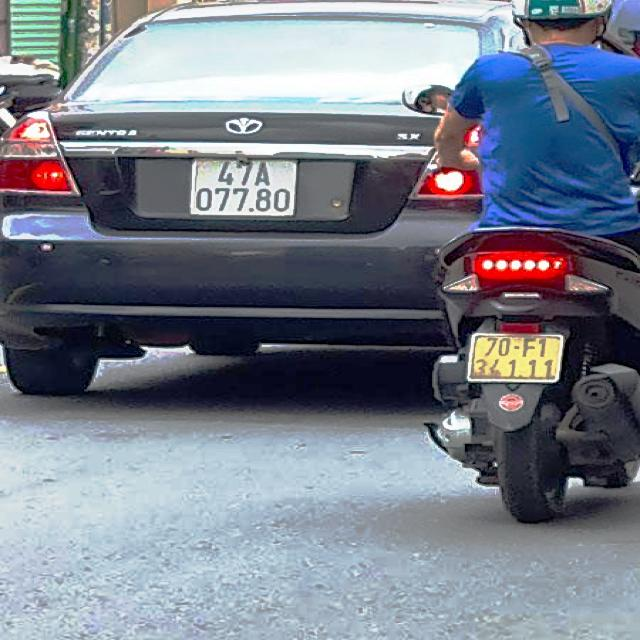license_plate: (196, 157, 297, 220), (474, 332, 568, 383)
